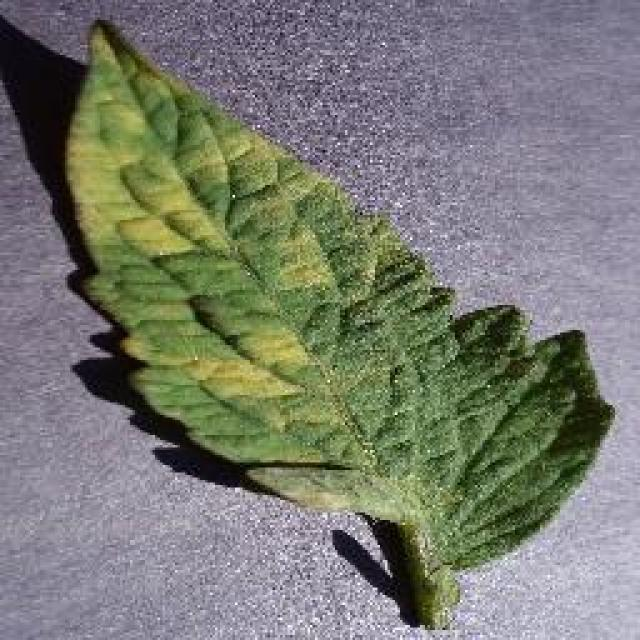leaf mold: (67, 18, 606, 616)
